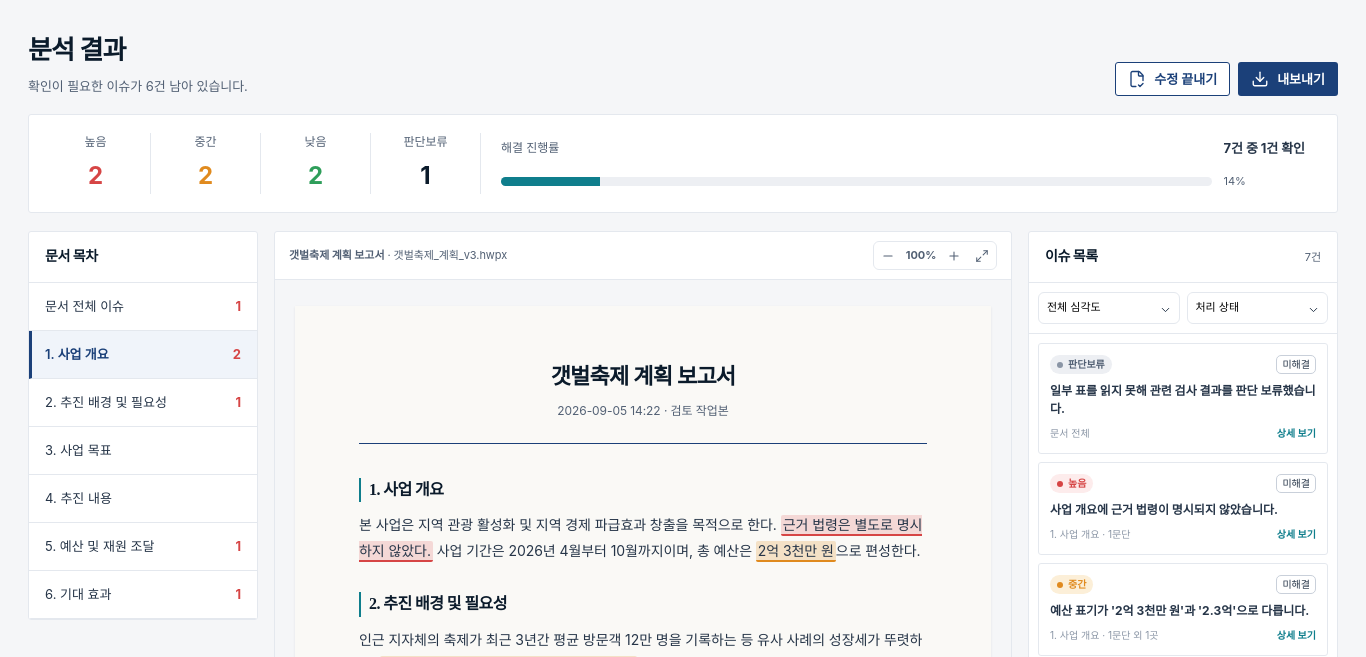
Scenario: ResultPage document view › 위치를 특정할 수 없는 판단보류 이슈는 최종 적용 문장을 수정할 수 없다
Click the button "판단보류 미해결 일부 표를 읽지 못해 관련 검사 결과를 판단 보류했습니다. 문서 전체 상세 보기" at (1183, 398), box [1038, 343, 1328, 454]
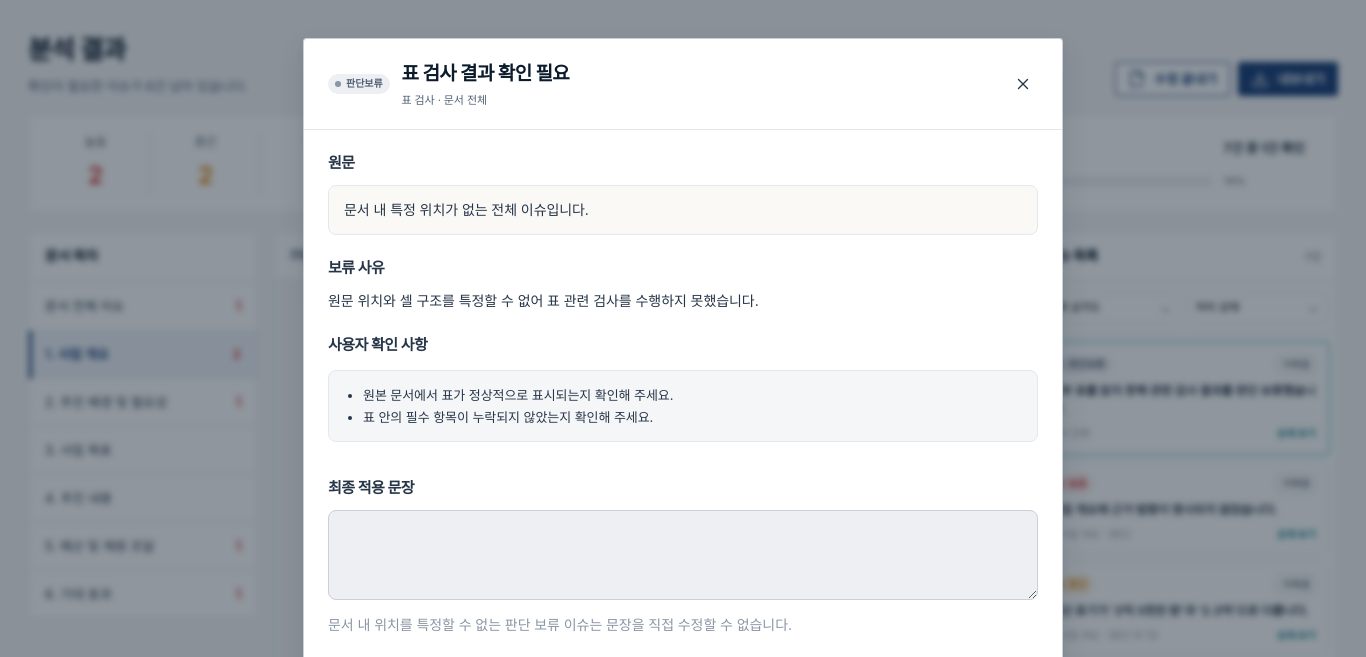
Expected: the text box named "최종 적용 문장" is disabled, [328, 510, 1038, 600]
Expected: the text "문서 내 위치를 특정할 수 없는 판단 보류 이슈는 문장을 직접 수정할 수 없습니다." is shown, [328, 616, 792, 633]
